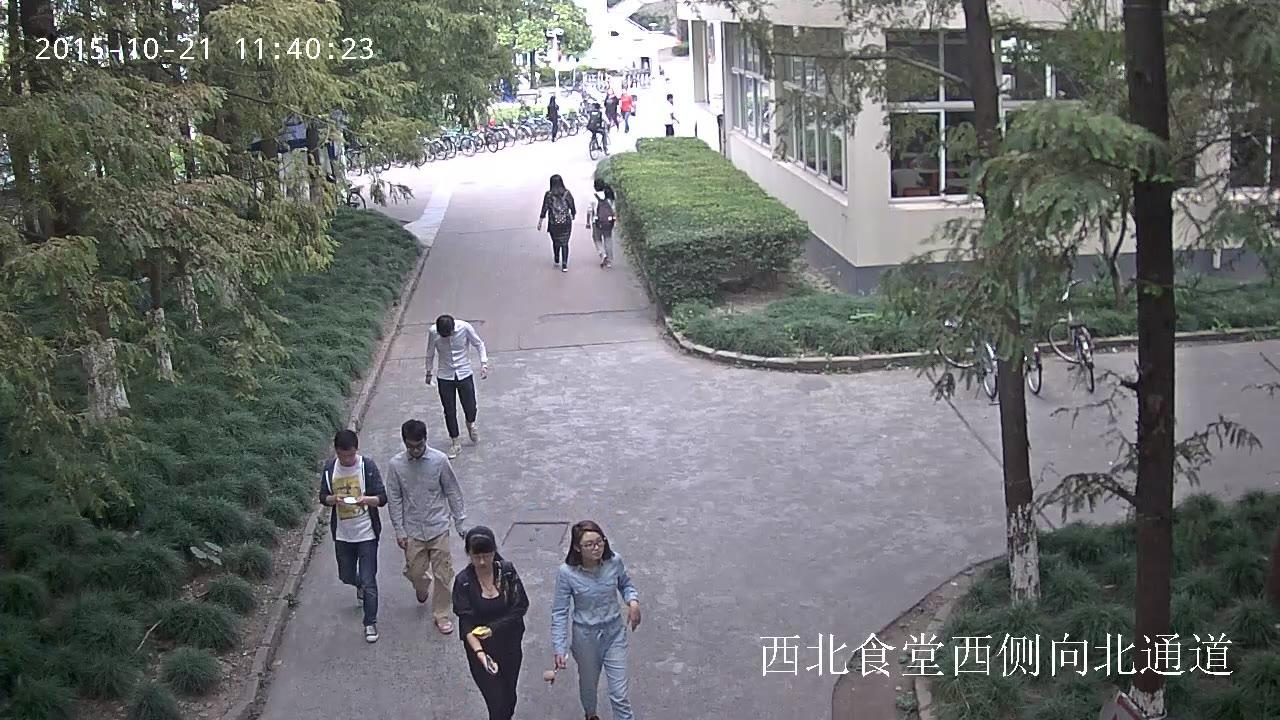person: (543, 520, 640, 720), (386, 419, 469, 634), (450, 525, 528, 720), (319, 429, 386, 643), (424, 314, 489, 458), (537, 174, 576, 271), (585, 178, 618, 267), (585, 102, 611, 160), (586, 103, 608, 150), (618, 88, 635, 133), (662, 93, 679, 136), (603, 87, 619, 128), (545, 96, 559, 142)
